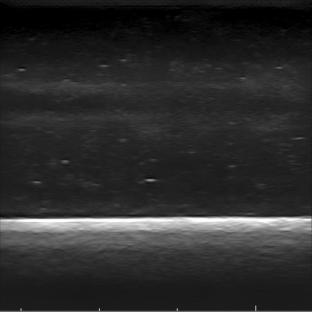vessel: (0, 79, 112, 126)
